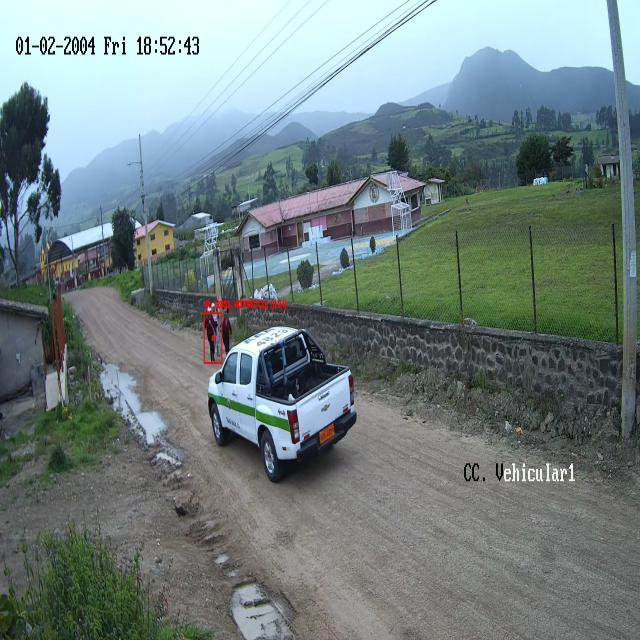CMT: (206, 342, 354, 476)
